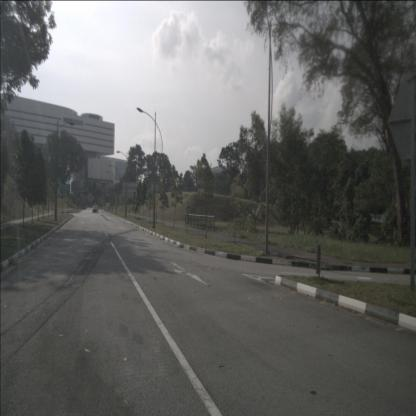vehicle-car: (92, 205, 98, 213)
